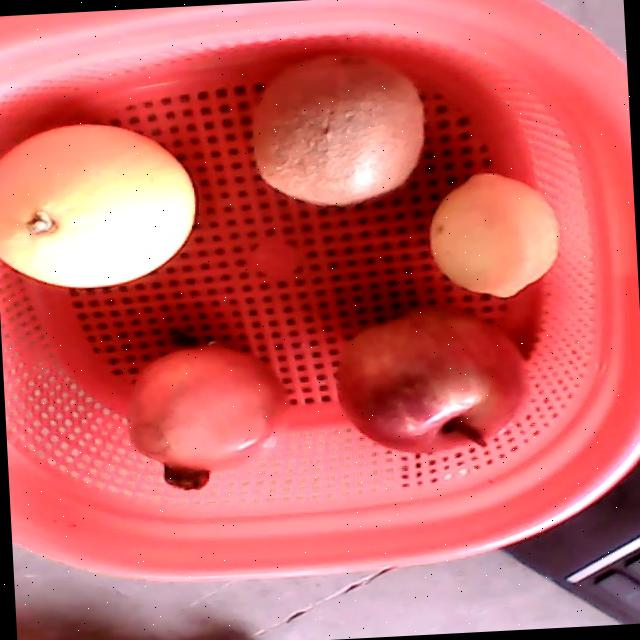apple: (334, 307, 531, 454)
kiwi: (251, 52, 427, 205)
lemon: (428, 172, 560, 300)
orange: (0, 122, 196, 288)
pomegranate: (121, 339, 289, 490)
